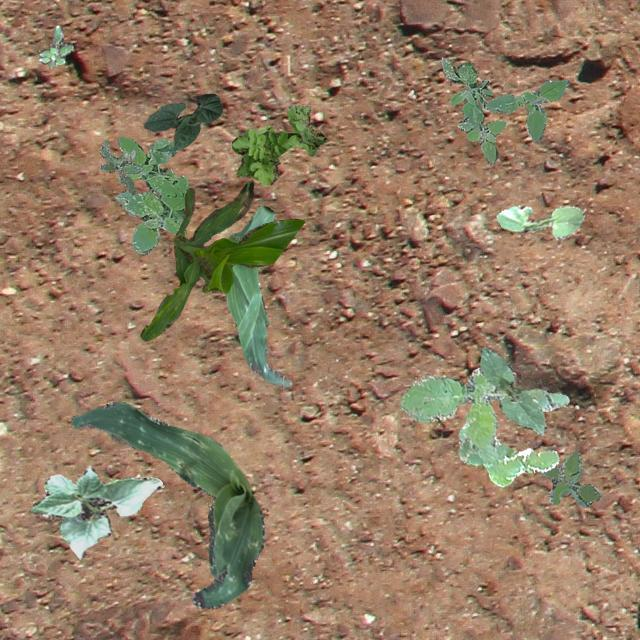crop: (70, 400, 262, 608), (140, 180, 304, 340), (30, 464, 160, 558), (226, 204, 290, 386), (478, 346, 546, 434), (142, 92, 222, 156), (496, 203, 584, 240)
weed: (400, 366, 568, 486), (439, 55, 568, 164), (112, 134, 188, 253), (230, 104, 326, 184), (538, 449, 600, 506), (98, 138, 142, 194), (38, 24, 72, 68)
